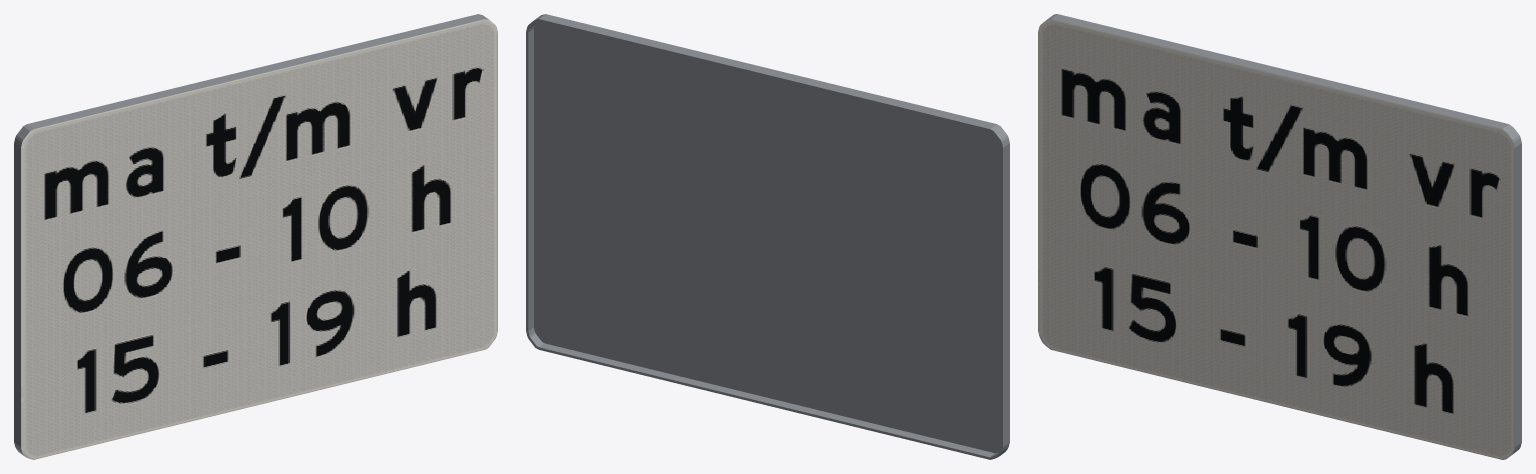
3 renders of one model, left to right at view 1: azimuth 30°, elevation 25°; view 2: azimuth 150°, elevation 25°; view 3: azimuth 330°, elevation 25°, orthographic.
Parts seen in each view (by area): view 1: cat_08dd885ece6a9887; view 2: cat_08dd885ece6a9887; view 3: cat_08dd885ece6a9887.
Boxes of the visible parts, bbox=[...] form: cat_08dd885ece6a9887: bbox=[14, 14, 497, 459]; cat_08dd885ece6a9887: bbox=[526, 14, 1009, 459]; cat_08dd885ece6a9887: bbox=[1038, 14, 1521, 459].
Bounding box in the file's own units: 0.6 × 0.015 × 0.3976.
2 materials, 1 textured.
